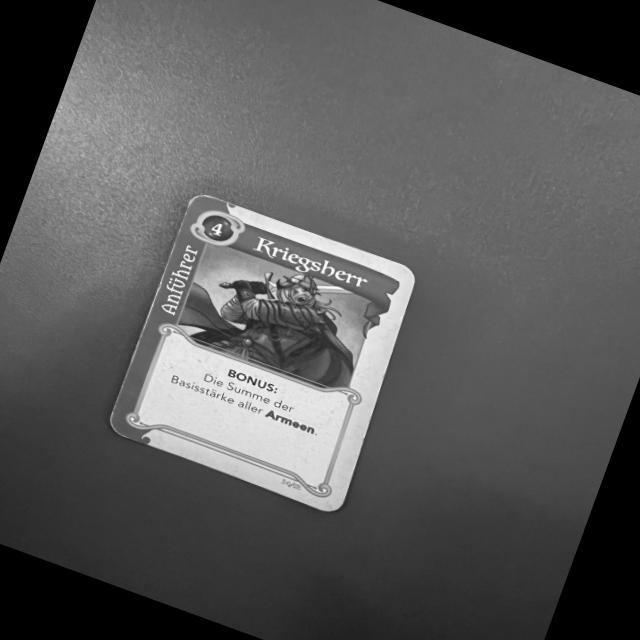Warlord: (102, 187, 421, 523)
